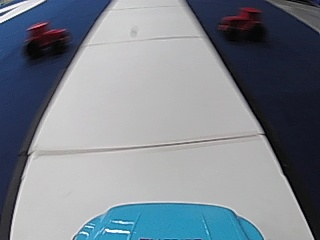tractor: (24, 18, 68, 58), (217, 5, 263, 42)
